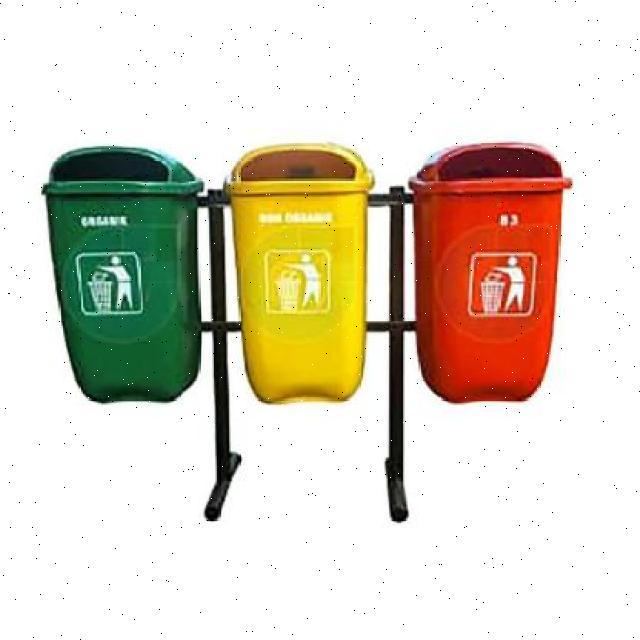garbage container: (32, 139, 213, 424), (401, 130, 580, 415), (213, 132, 382, 420)
